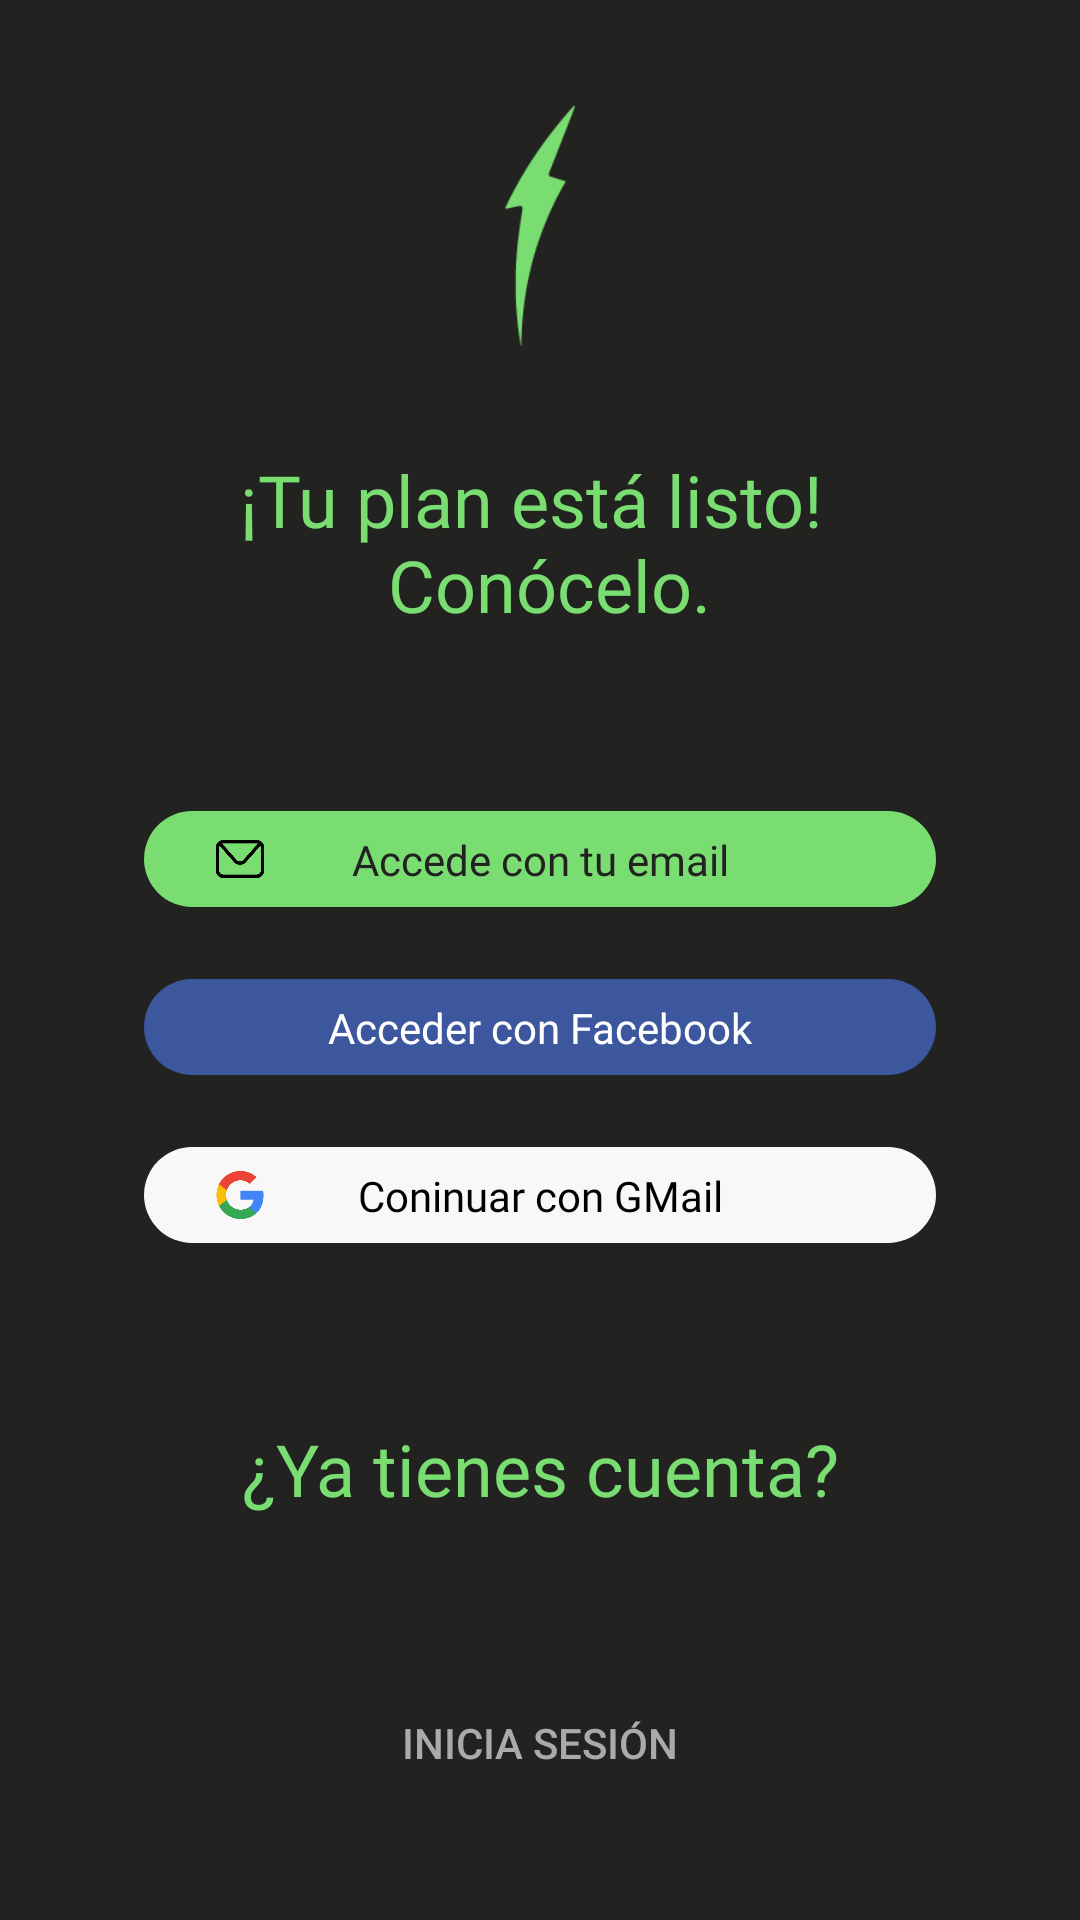

Screen size 1080*1920. Icon name, then its box in pixels as (x1,y1,x2,y2):
rayo: (505,106,575,346)
